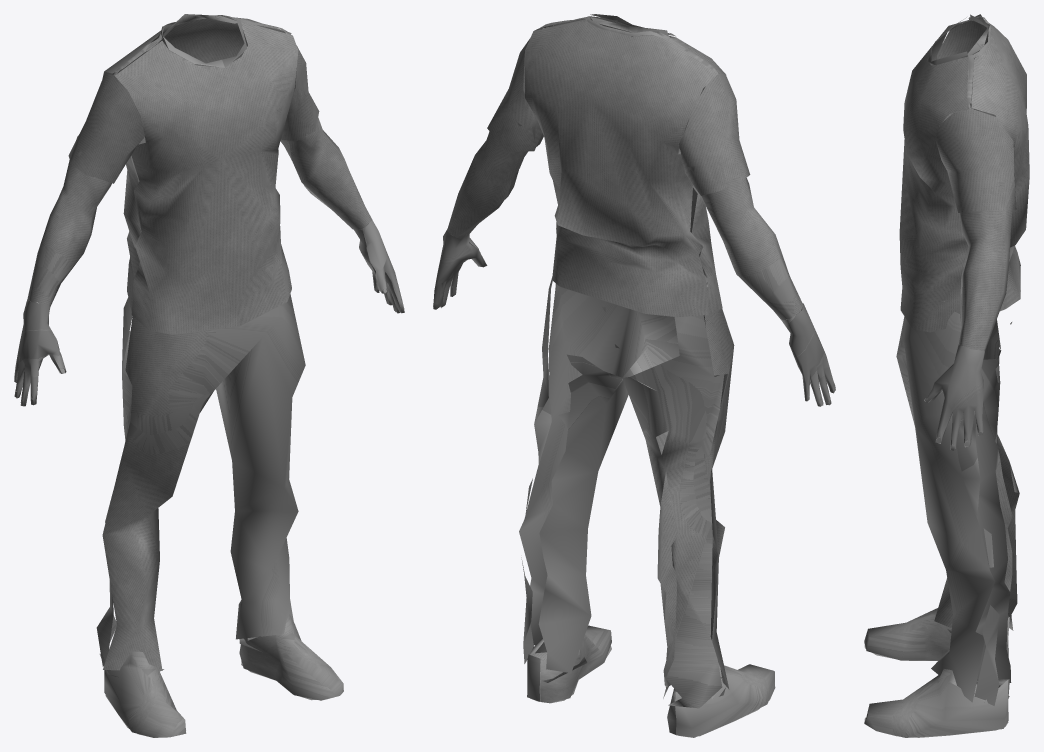
Rendered from player_model.fbx.
3 views of the same model, side by side, from view 1: azimuth 30°, elevation 25°; view 2: azimuth 150°, elevation 25°; view 3: azimuth 270°, elevation 25° (orthographic). The views are drawn at different scales.
Visible parts, largest first — view 1: player-xd; view 2: player-xd; view 3: player-xd.
Part boxes in pixels (x1=…): player-xd: x1=14, y1=14, x2=404, y2=737; player-xd: x1=433, y1=14, x2=835, y2=737; player-xd: x1=864, y1=14, x2=1029, y2=737.
Size of the model in its own units: 450 by 756 by 171.
6 materials, 6 textured.
